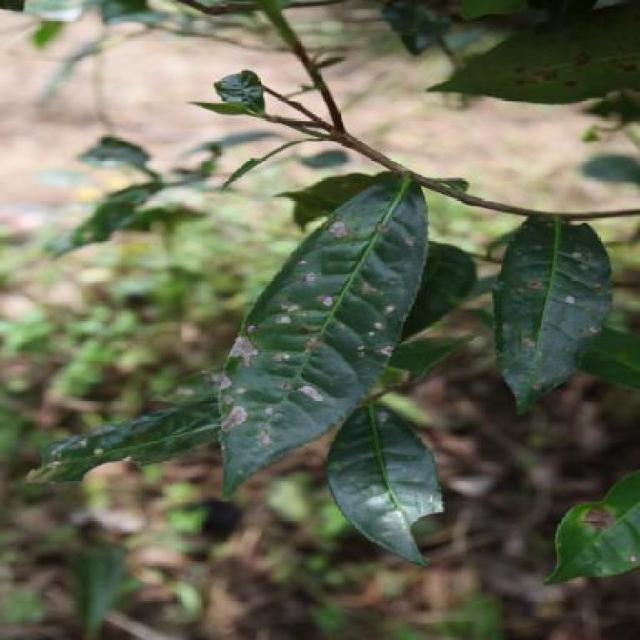Leaf rust of tea: (215, 161, 411, 514), (496, 212, 598, 410)
